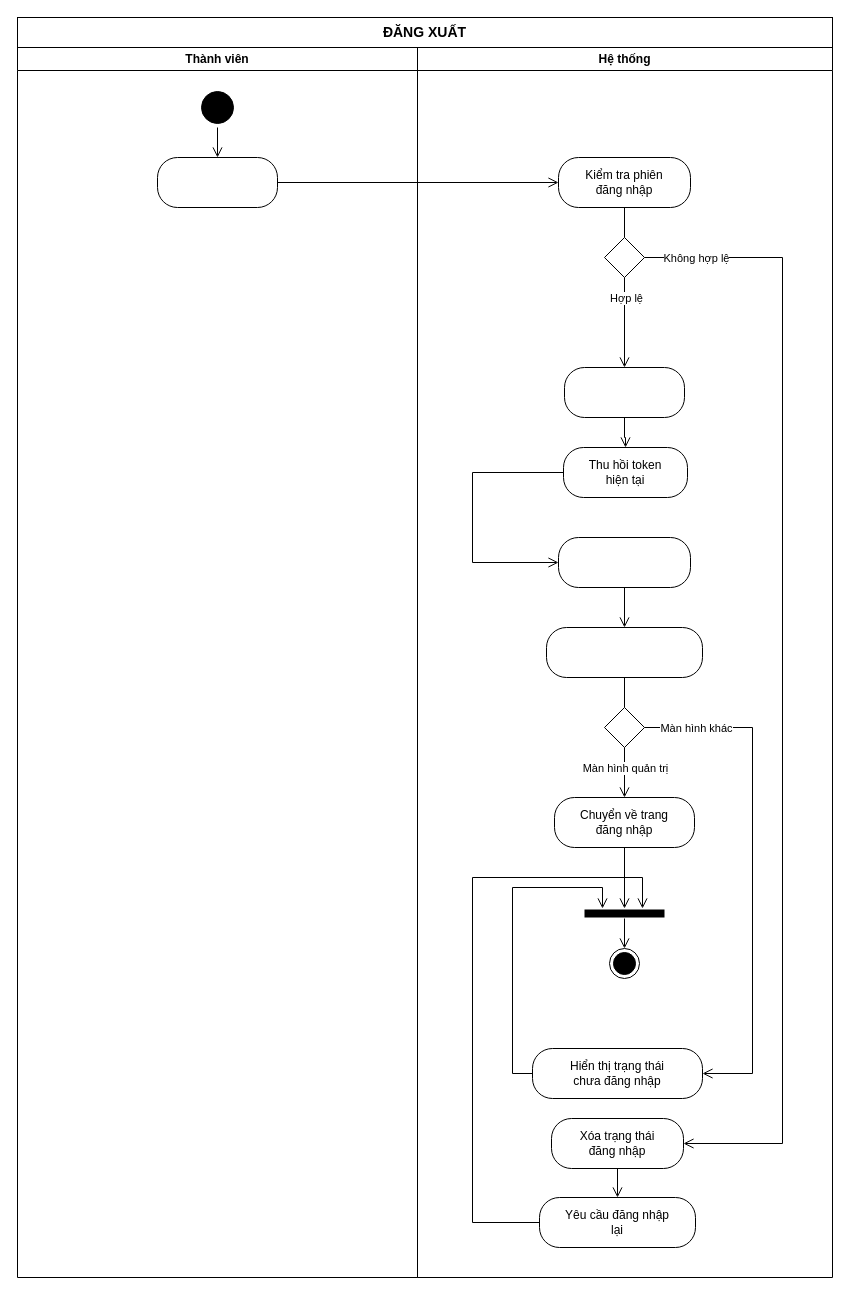
The diagram is 850 pixels wide and 1295 high, and some of its shapes have lost their labels. The centre of each missing label's shape, as x and y in pixels:
Gửi yêu cầu đăng xuất: point 624,392
Kiểm tra màn hình hiện tại: point 624,652
Nhấn nút Đăng xuất: point 217,182
Xóa token trên trình duyệt: point 624,562
